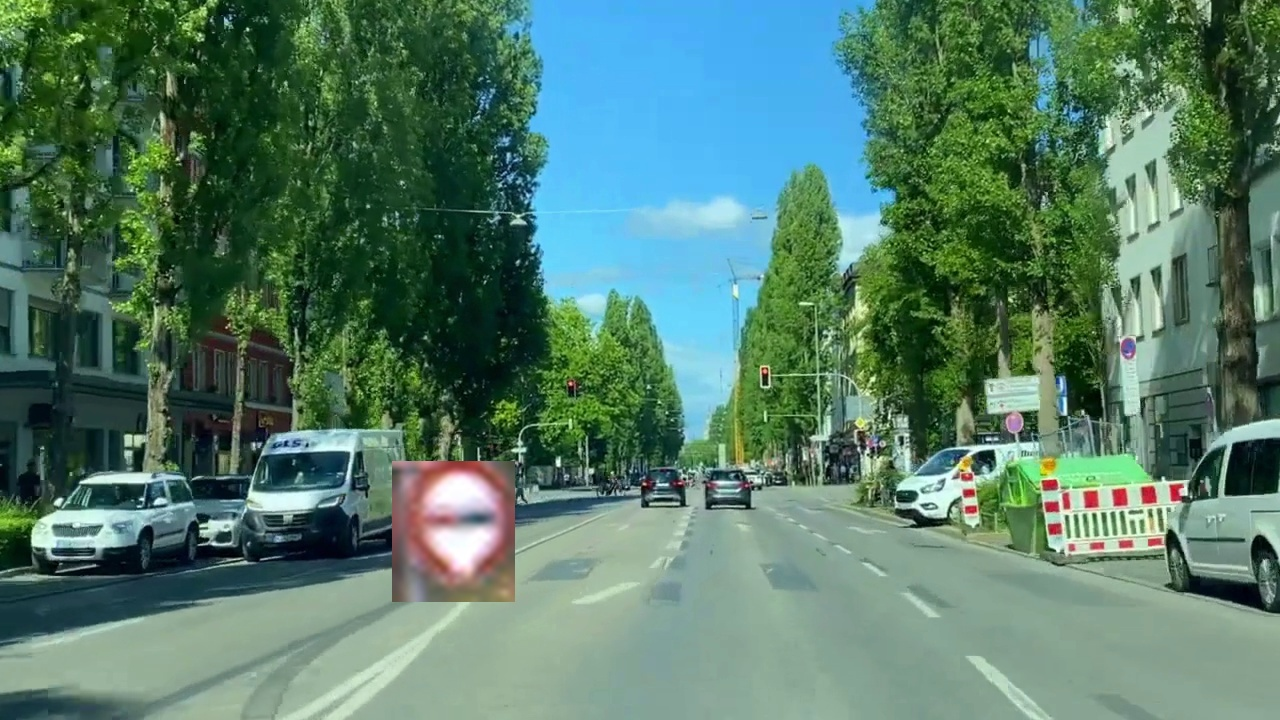No passing: (392, 461, 515, 602)
